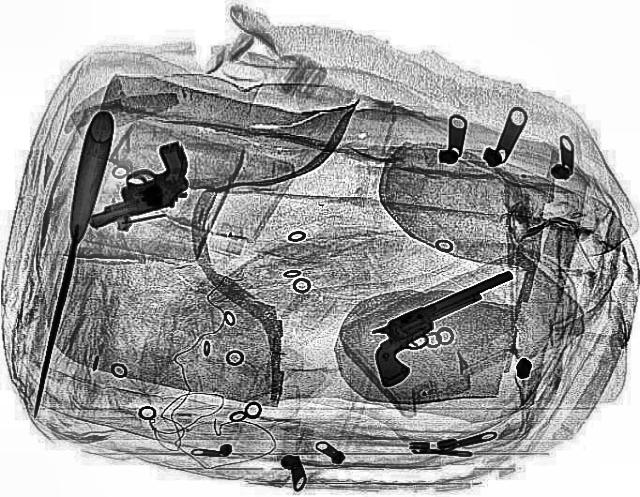Gun: (342, 266, 548, 388), (64, 140, 206, 228)
Knife: (20, 110, 118, 418)
